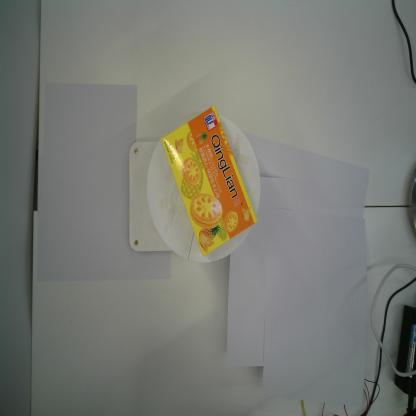Dessert: (159, 103, 259, 259)
